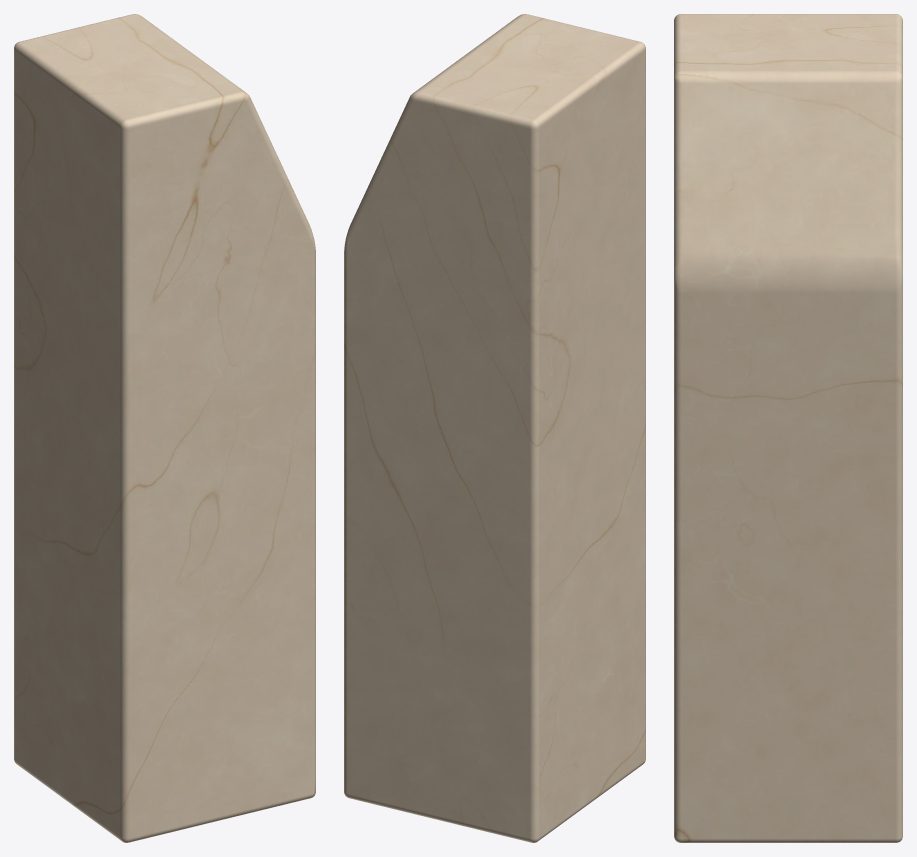
File: bishop-white-hd.glb
3 renders of one model, left to right at view 1: azimuth 30°, elevation 25°; view 2: azimuth 150°, elevation 25°; view 3: azimuth 270°, elevation 25°, orthographic.
Visible parts, largest first — view 1: strelec_bily; view 2: strelec_bily; view 3: strelec_bily.
Part boxes in pixels (bbox=[...]): strelec_bily: bbox=[14, 14, 315, 842]; strelec_bily: bbox=[344, 14, 645, 842]; strelec_bily: bbox=[674, 14, 902, 842].
Bounding box in the file's own units: 0.4281 × 1.52 × 0.4281.
Materials: 1 (1 with a texture image).
